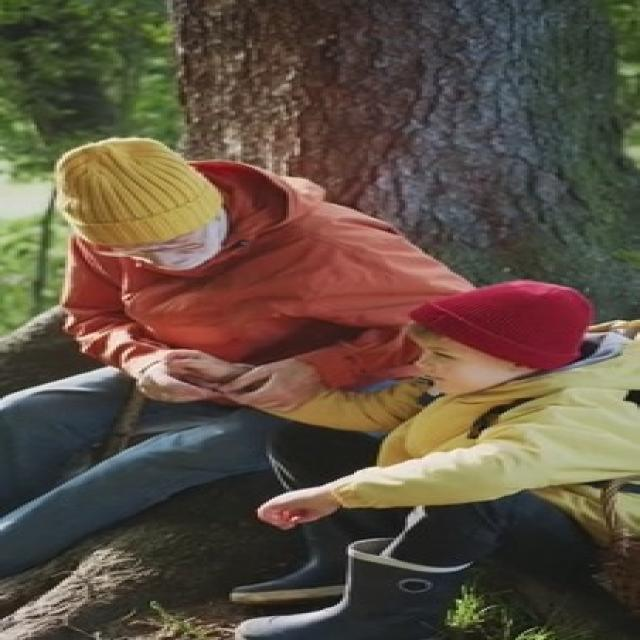Jacket_Wearer: (36, 193, 560, 390)
Person: (50, 137, 483, 489)
